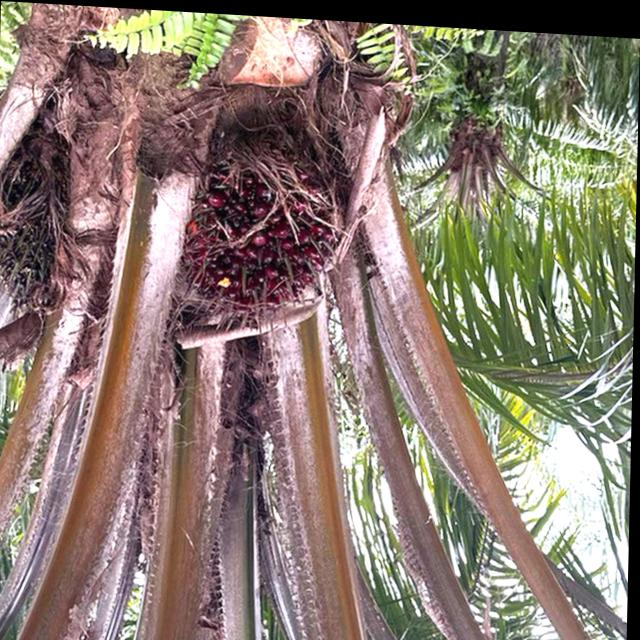ripe: (182, 169, 347, 336), (0, 148, 74, 317)
